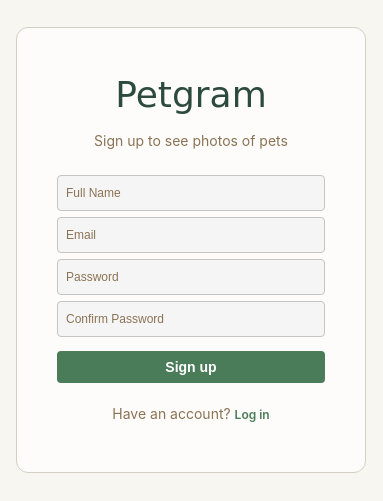
Scenario: Register Page › shows error for password mismatch
The image size is (383, 501).
Step 1. Type "John" into the field with placeholder "Full Name" → (191, 193), box [57, 175, 325, 211]
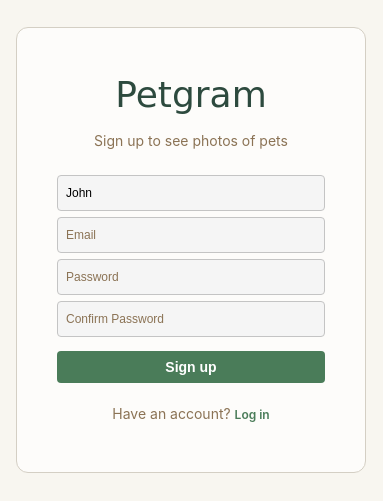
Step 2. Type "test@test.com" into the field with placeholder "Email" → (191, 235), box [57, 217, 325, 253]
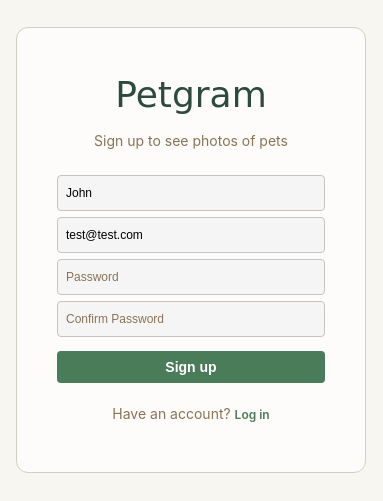
Step 3. Type "password123" into the password field with placeholder "Password" → (191, 277), box [57, 259, 325, 295]
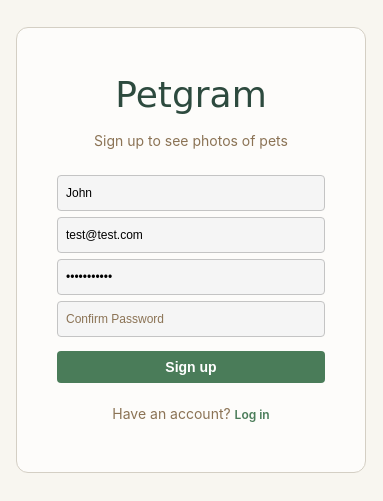
Step 4. Type "different" into the password field with placeholder "Confirm Password" → (191, 319), box [57, 301, 325, 337]
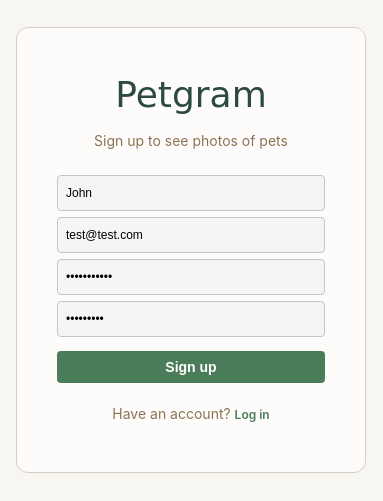
Step 5. Click the button "Sign up" → (191, 367), box [57, 351, 325, 383]
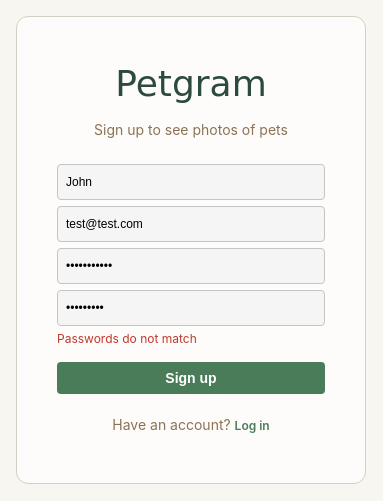
Check: the text "Passwords do not match" is shown, box [57, 331, 197, 346]
